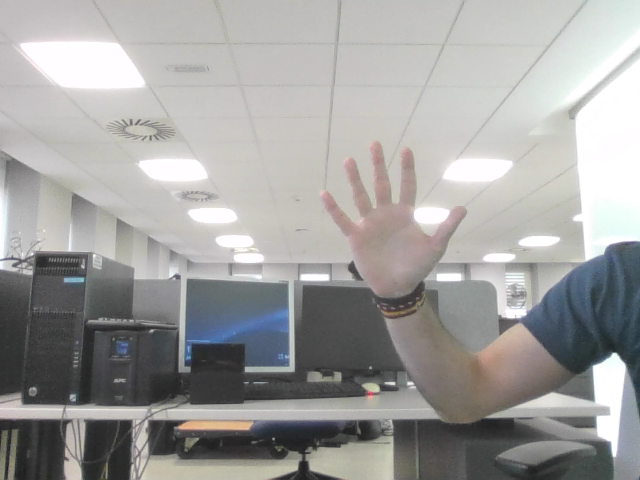Mano Abierta: (332, 154, 452, 264)
